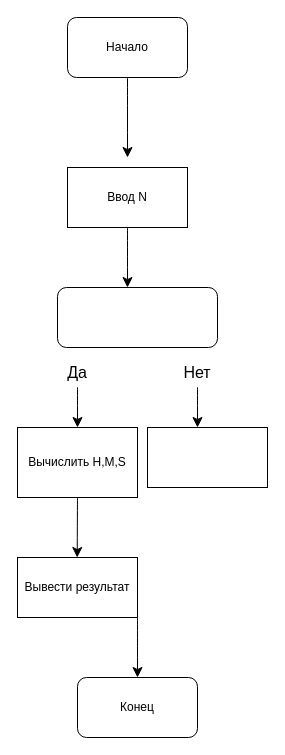
The diagram is 285 pixels wide and 755 high, and some of its shapes have lost their labels. The shapes that lost their labels are listed below. From the top down, each one's centre as x and y in pixels, then its label:
At [137,317]: "N-целое число и N >=0?".
At [207,457]: "Вывести ошибку".
